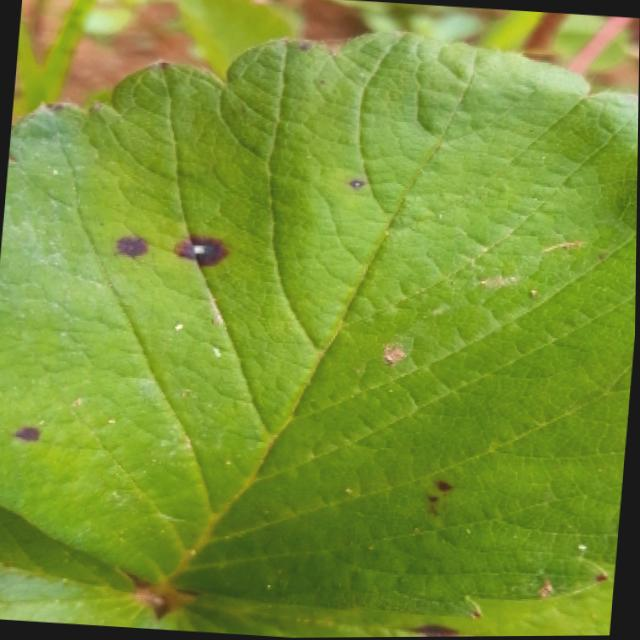Leaf Spot: (0, 27, 639, 620), (157, 563, 617, 638), (0, 504, 158, 629)
